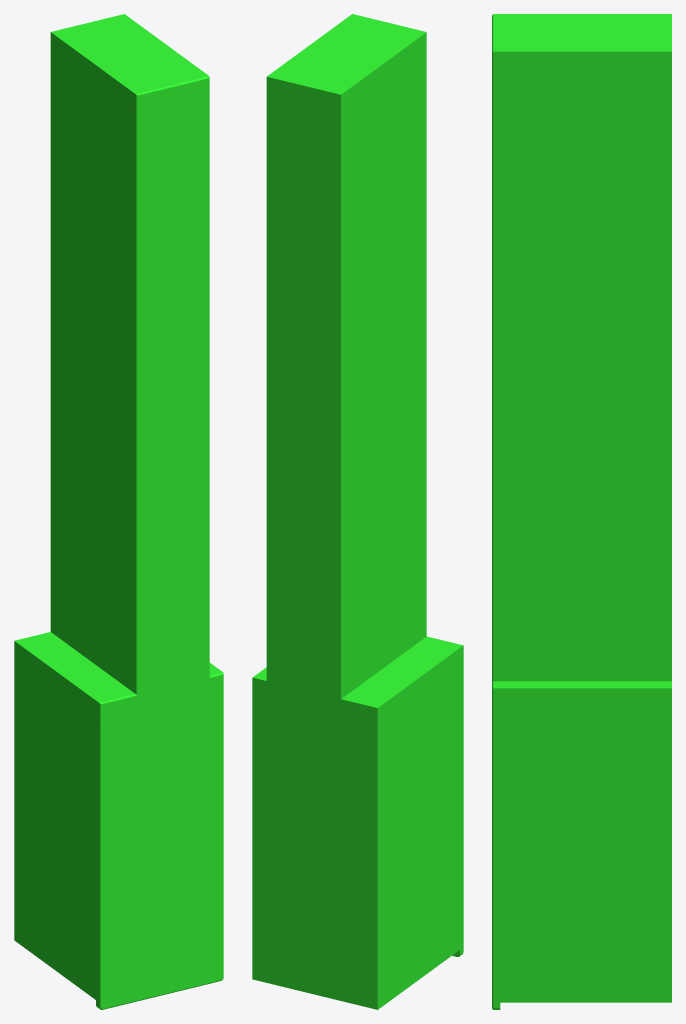
File: Kbdanat.obj
The picture shows the model from 3 angles, left to right: view 1: azimuth 30°, elevation 25°; view 2: azimuth 150°, elevation 25°; view 3: azimuth 270°, elevation 25°; orthographic projection. The views are drawn at different scales.
Parts seen in each view (by area): view 1: Kbdanat; view 2: Kbdanat; view 3: Kbdanat.
Part boxes in pixels (x1=…): Kbdanat: x1=14, y1=14, x2=223, y2=1009; Kbdanat: x1=252, y1=14, x2=463, y2=1009; Kbdanat: x1=492, y1=14, x2=671, y2=1009.
Size of the model in its own units: 0.1535 by 1.07 by 0.1833.
